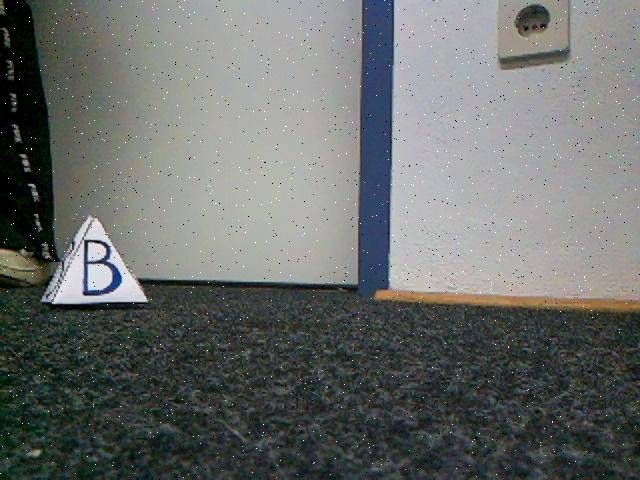B: (41, 219, 153, 310)
